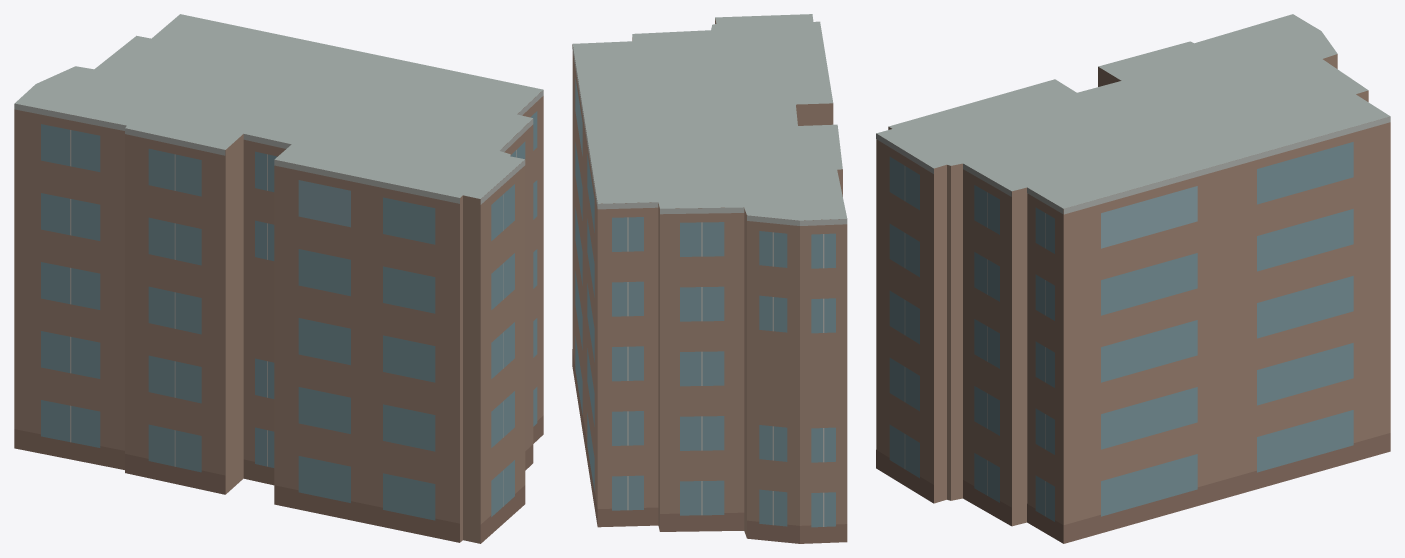
The model's file is survey-upis-32975583.glb.
The picture shows the model from 3 angles, left to right: view 1: azimuth 30°, elevation 25°; view 2: azimuth 150°, elevation 25°; view 3: azimuth 270°, elevation 25°; orthographic projection. The views are drawn at different scales.
Visible parts, largest first — view 1: survey-upis-32975583.tmp; view 2: survey-upis-32975583.tmp; view 3: survey-upis-32975583.tmp.
Part boxes in pixels (x1=…): survey-upis-32975583.tmp: x1=14, y1=14, x2=543, y2=543; survey-upis-32975583.tmp: x1=572, y1=14, x2=847, y2=543; survey-upis-32975583.tmp: x1=876, y1=14, x2=1390, y2=543.
Size of the model in its own units: 17.85 by 14.3 by 19.91.
